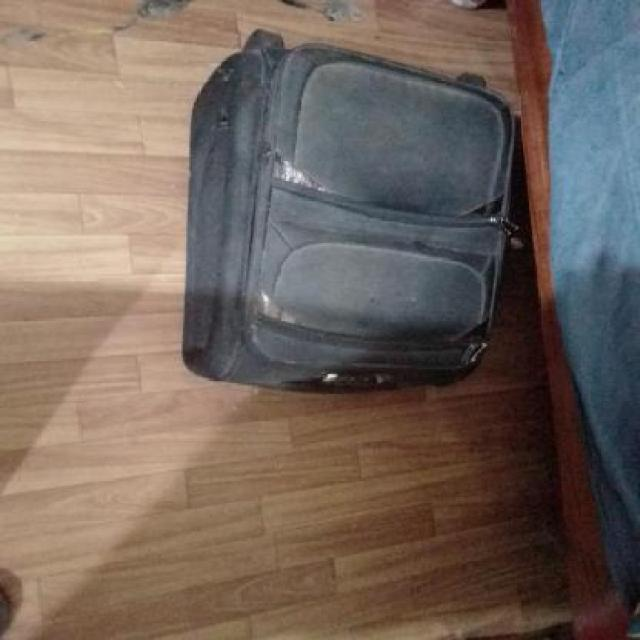backpack: (178, 24, 532, 398)
